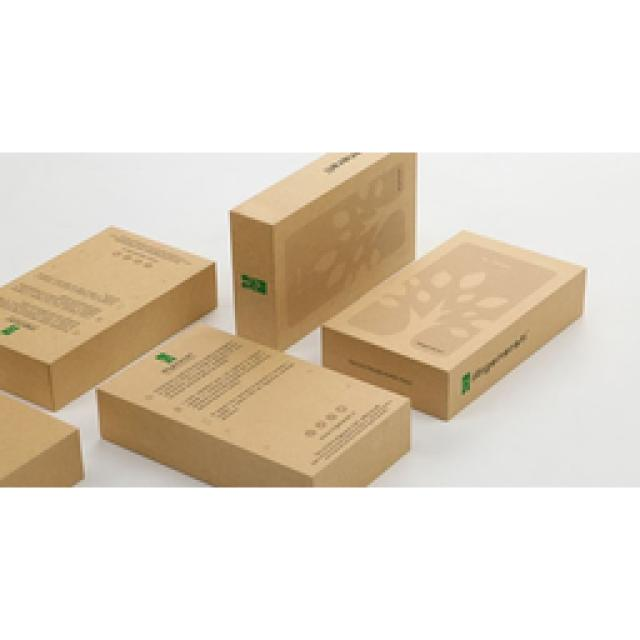cardboard: (0, 152, 585, 485)
